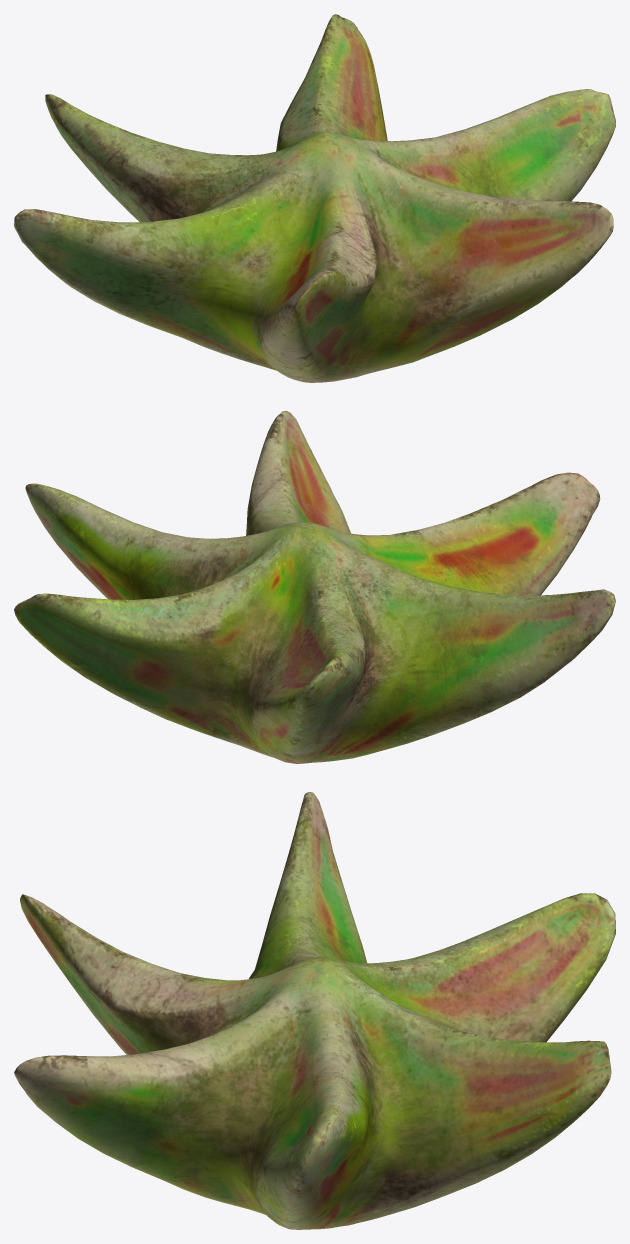
The model's file is starfish-sf.glb.
3 views of the same model, one above another, from view 1: azimuth 30°, elevation 25°; view 2: azimuth 150°, elevation 25°; view 3: azimuth 270°, elevation 25° (orthographic). The views are drawn at different scales.
Visible parts, largest first — view 1: PolyMesh3D_4; view 2: PolyMesh3D_4; view 3: PolyMesh3D_4.
Boxes of the visible parts, bbox=[...] form: PolyMesh3D_4: bbox=[14, 14, 615, 382]; PolyMesh3D_4: bbox=[14, 411, 615, 763]; PolyMesh3D_4: bbox=[14, 792, 615, 1229].
Size of the model in its own units: 1.86 by 0.708 by 1.48.
1 material, 1 textured.
